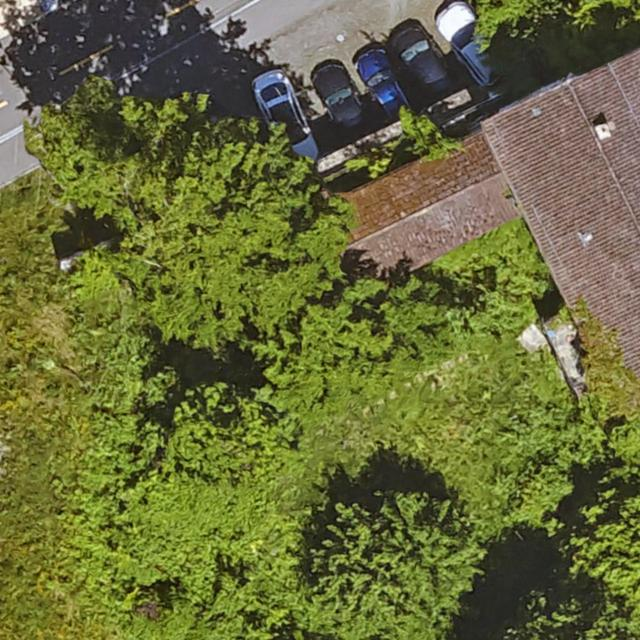tree: (131, 120, 341, 340), (308, 498, 476, 639), (31, 87, 184, 213), (576, 489, 640, 640), (507, 591, 586, 640)
